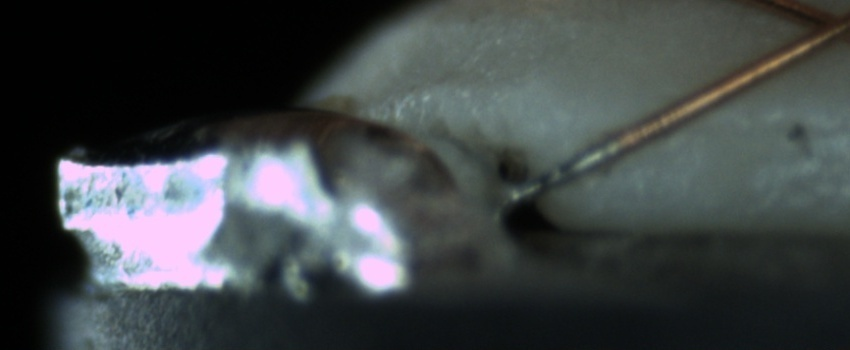CL: (779, 1, 850, 58)
DL: (689, 96, 850, 156)
TS: (507, 135, 624, 202)
TTCW: (505, 114, 656, 203)
